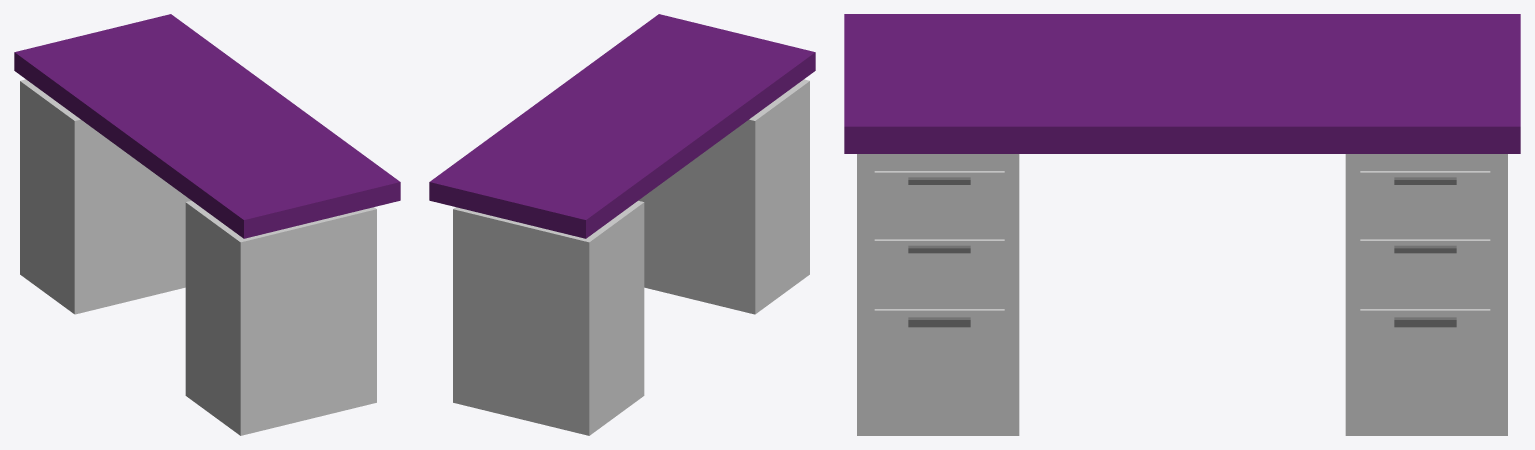
File: Desk_BasicPurple.fbx
The picture shows the model from 3 angles, left to right: view 1: azimuth 30°, elevation 25°; view 2: azimuth 150°, elevation 25°; view 3: azimuth 270°, elevation 25°; orthographic projection. The views are drawn at different scales.
Visible parts, largest first — view 1: Desk2:polySurface1; view 2: Desk2:polySurface1; view 3: Desk2:polySurface1.
Boxes of the visible parts, x1,y1,x2,y2 form: Desk2:polySurface1: [14, 14, 400, 435]; Desk2:polySurface1: [429, 14, 815, 435]; Desk2:polySurface1: [844, 14, 1520, 435].
Bounding box in the file's own units: 0.5436 × 0.7276 × 1.38.
